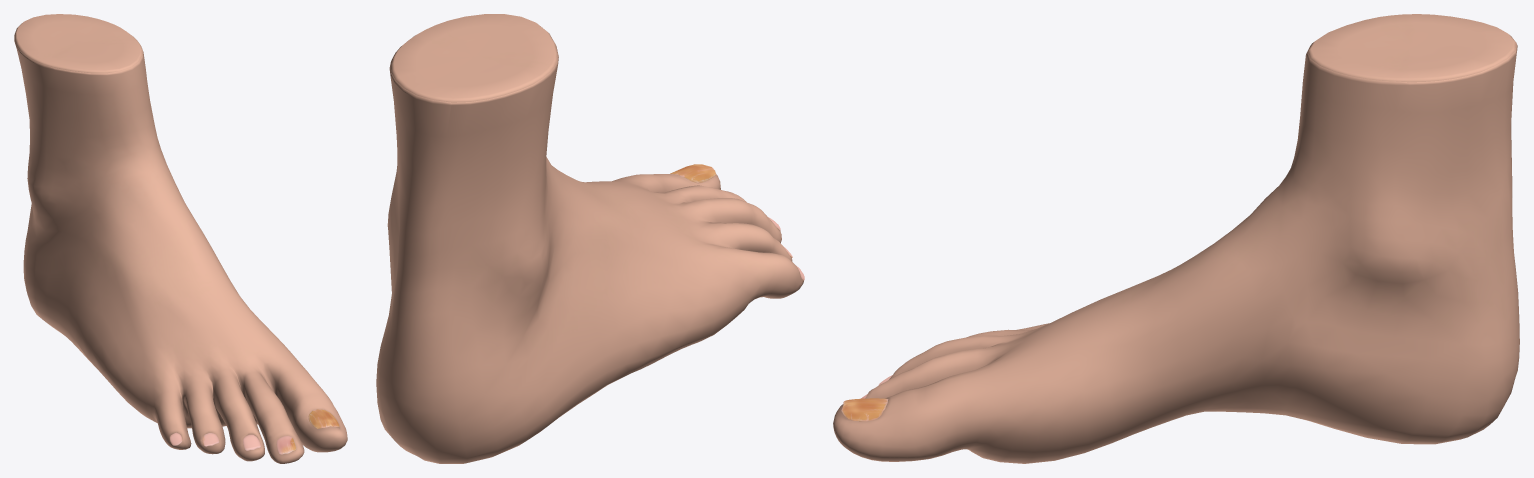
The picture shows the model from 3 angles, left to right: view 1: azimuth 30°, elevation 25°; view 2: azimuth 150°, elevation 25°; view 3: azimuth 270°, elevation 25°; orthographic projection. The views are drawn at different scales.
Visible parts, largest first — view 1: Pe3d, Unhas; view 2: Pe3d, Unhas; view 3: Pe3d, Unhas.
Part boxes in pixels (bbox=[...]): Pe3d: bbox=[14, 14, 347, 463]; Unhas: bbox=[170, 409, 339, 454]; Pe3d: bbox=[376, 14, 803, 463]; Unhas: bbox=[670, 164, 804, 280]; Pe3d: bbox=[833, 14, 1519, 463]; Unhas: bbox=[841, 375, 892, 421].
Size of the model in its own units: 0.5383 by 0.9688 by 1.57.
Materials: 2 (2 with a texture image).
